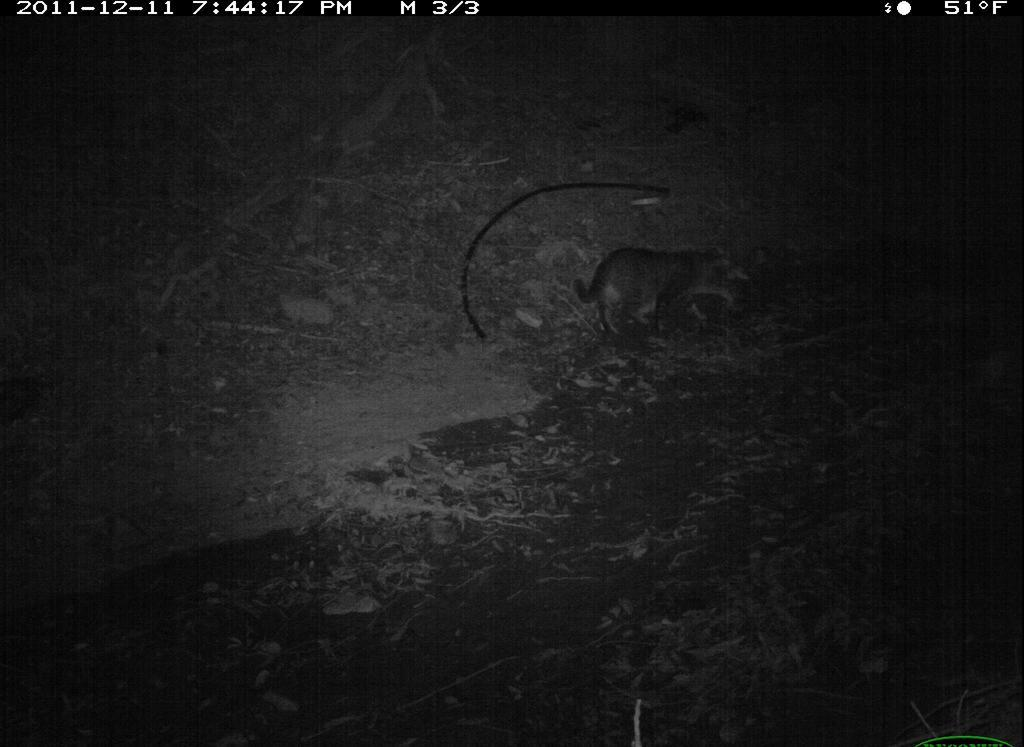cat: (566, 235, 762, 344)
